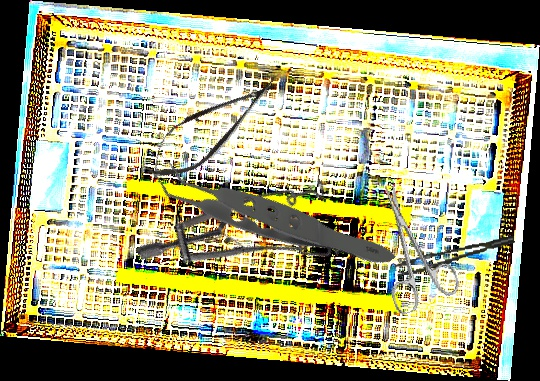Iris Scissors: (358, 173, 464, 317)
Micro Scissor: (134, 61, 290, 194)
Speculum: (135, 133, 363, 352)
Tissue Forceps: (141, 76, 398, 345), (392, 235, 518, 277)
